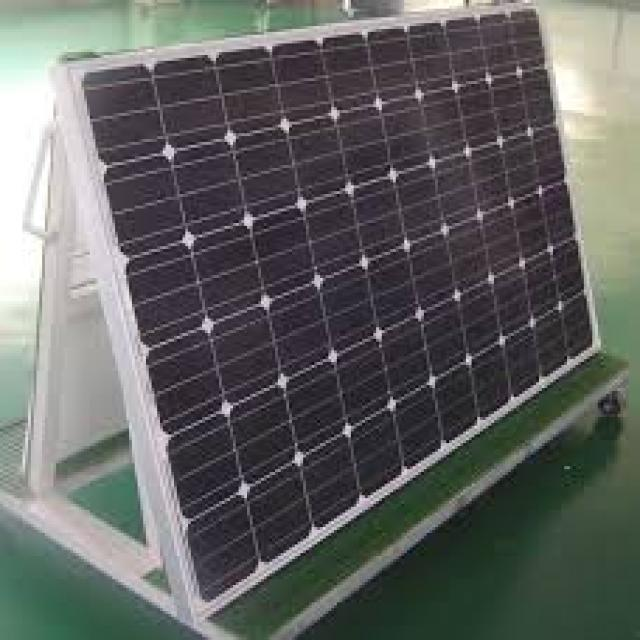no faulty: (72, 6, 602, 616)
